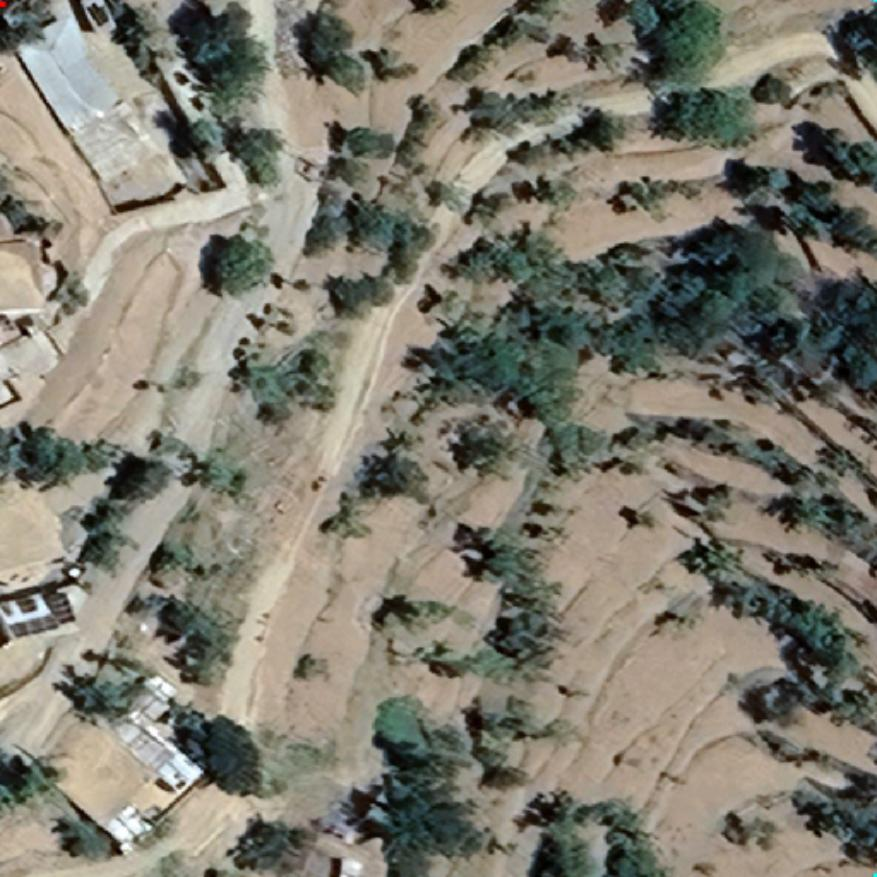Solarpanel: (0, 580, 82, 644)
